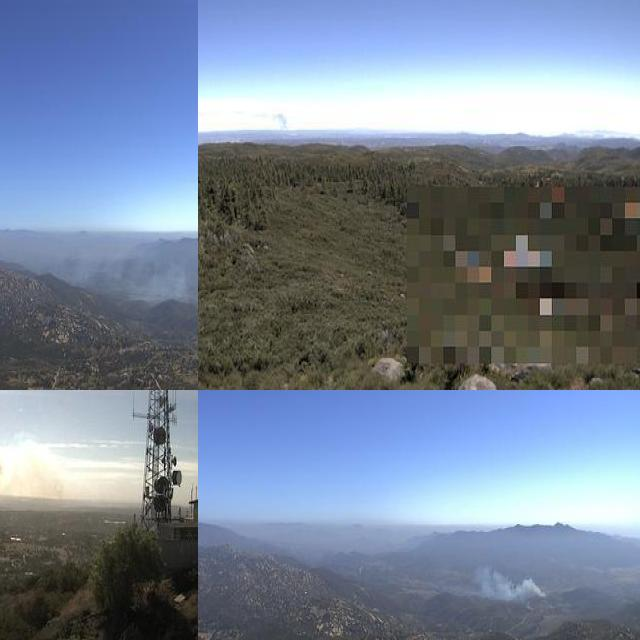smoke: (81, 243, 198, 311), (0, 422, 60, 504), (467, 557, 545, 603), (269, 106, 291, 133)
